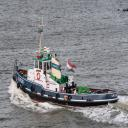tugboat: (12, 46, 121, 111)
